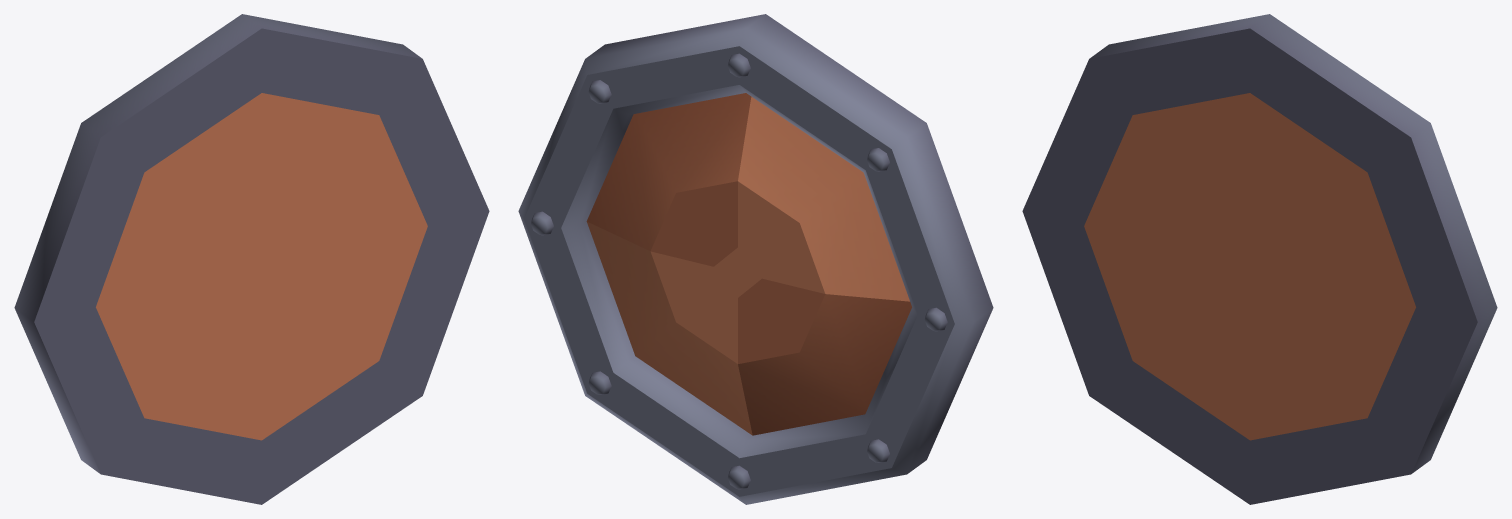
Rendered from shield-round-b.fbx.
3 views of the same model, side by side, from view 1: azimuth 30°, elevation 25°; view 2: azimuth 150°, elevation 25°; view 3: azimuth 330°, elevation 25° (orthographic).
Visible parts, largest first — view 1: shield-round-b; view 2: shield-round-b; view 3: shield-round-b.
Boxes of the visible parts, box(x1,y1,x2,y2) form: shield-round-b: box(14, 14, 489, 504); shield-round-b: box(518, 14, 993, 504); shield-round-b: box(1022, 14, 1497, 504).
Bounding box in the file's own units: 400 × 400 × 45.
Materials: 1 (1 with a texture image).
